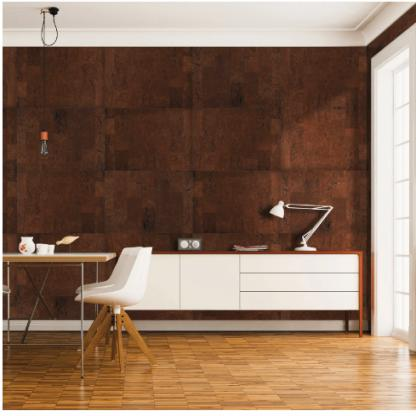Wall Panel: (2, 41, 370, 352)
